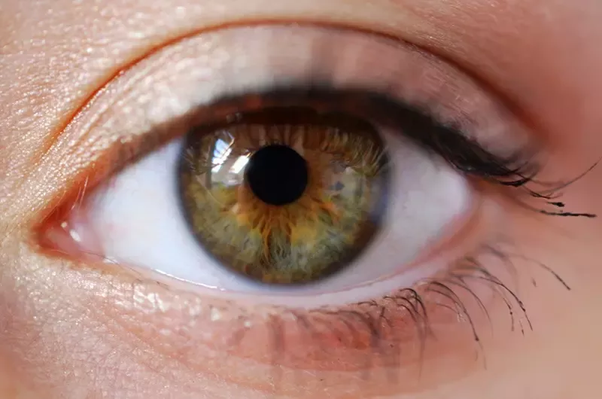iris: (174, 86, 392, 289)
pupil: (242, 143, 309, 208)
